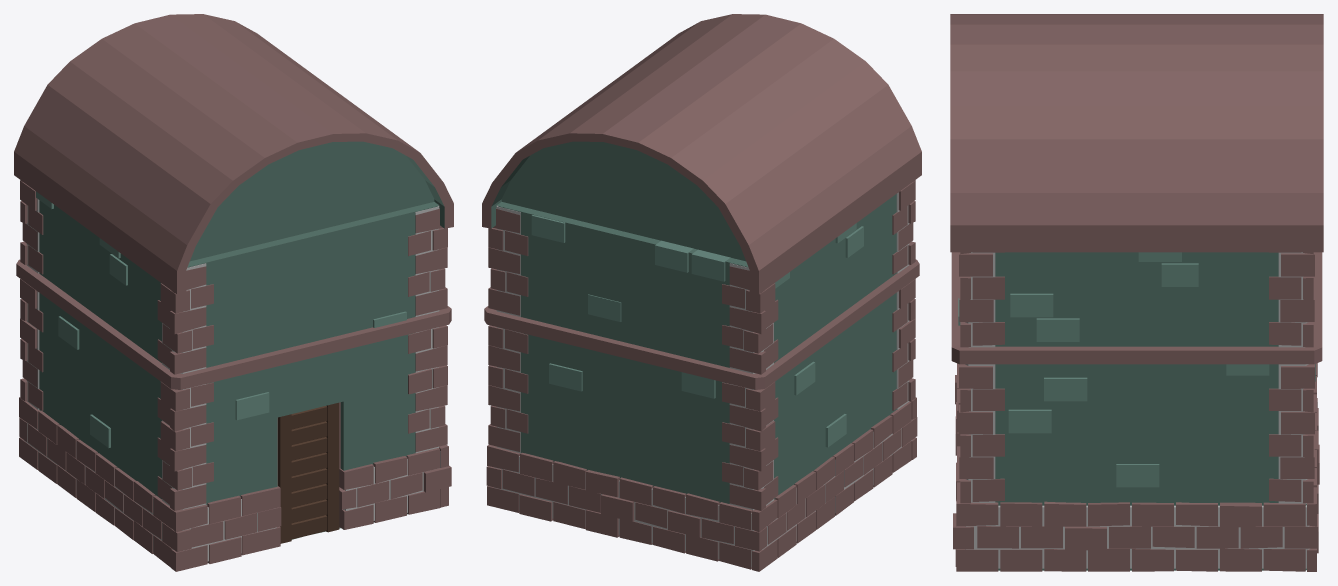
The model's file is 2Story_RoundRoof_Mat.glb.
3 renders of one model, left to right at view 1: azimuth 30°, elevation 25°; view 2: azimuth 150°, elevation 25°; view 3: azimuth 270°, elevation 25°, orthographic. The views are drawn at different scales.
Visible parts, largest first — view 1: 2Story_RoundRoof_Mat; view 2: 2Story_RoundRoof_Mat; view 3: 2Story_RoundRoof_Mat.
Part boxes in pixels (<box>): 2Story_RoundRoof_Mat: <box>14,14,453,571</box>; 2Story_RoundRoof_Mat: <box>482,14,921,571</box>; 2Story_RoundRoof_Mat: <box>950,14,1323,571</box>.
Size of the model in its own units: 1.69 by 2.32 by 1.7.
